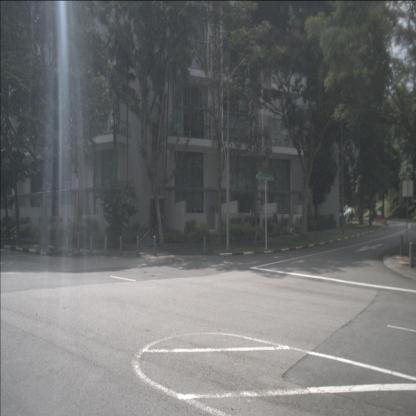vehicle-car: (370, 210, 384, 220)
